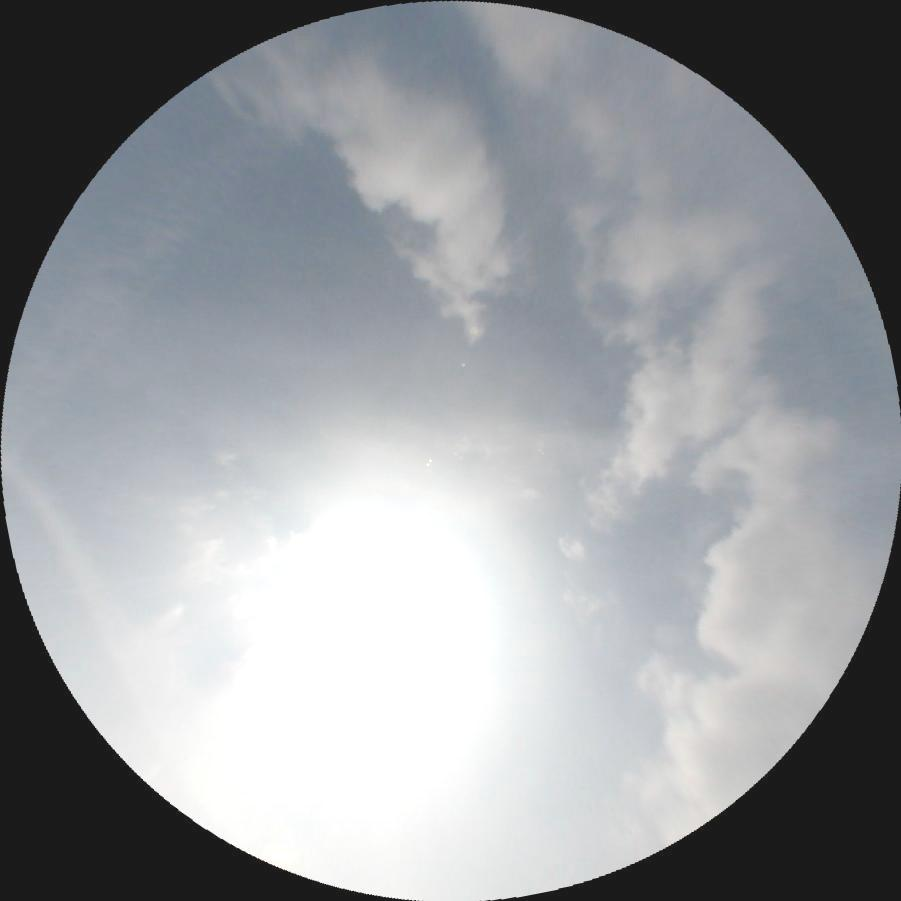sun: (300, 545, 446, 657)
